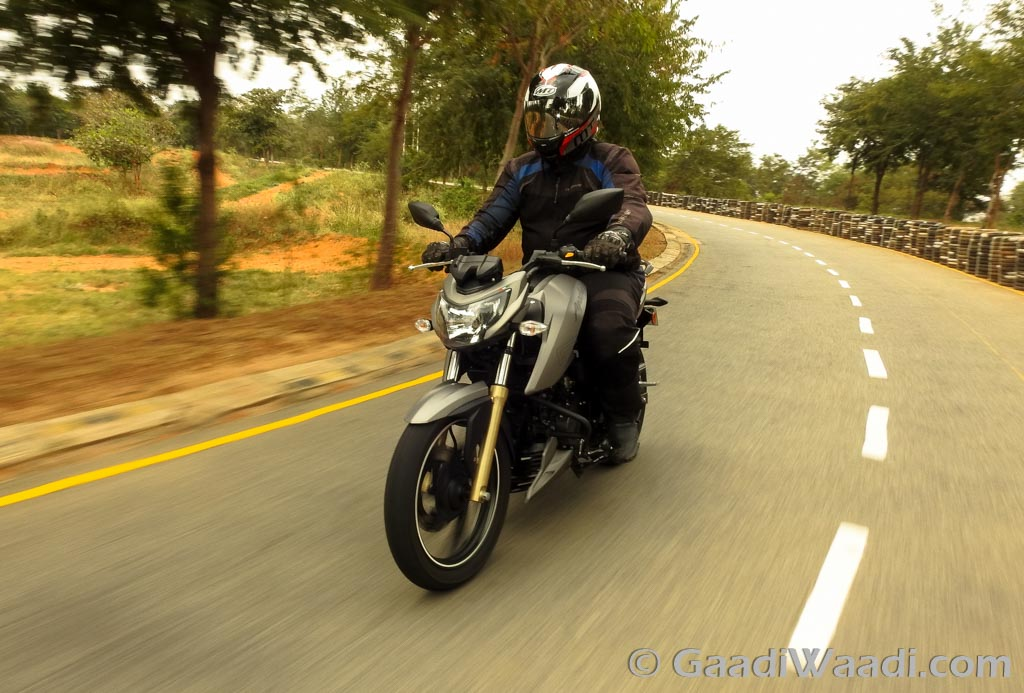helmet: (522, 63, 601, 163)
